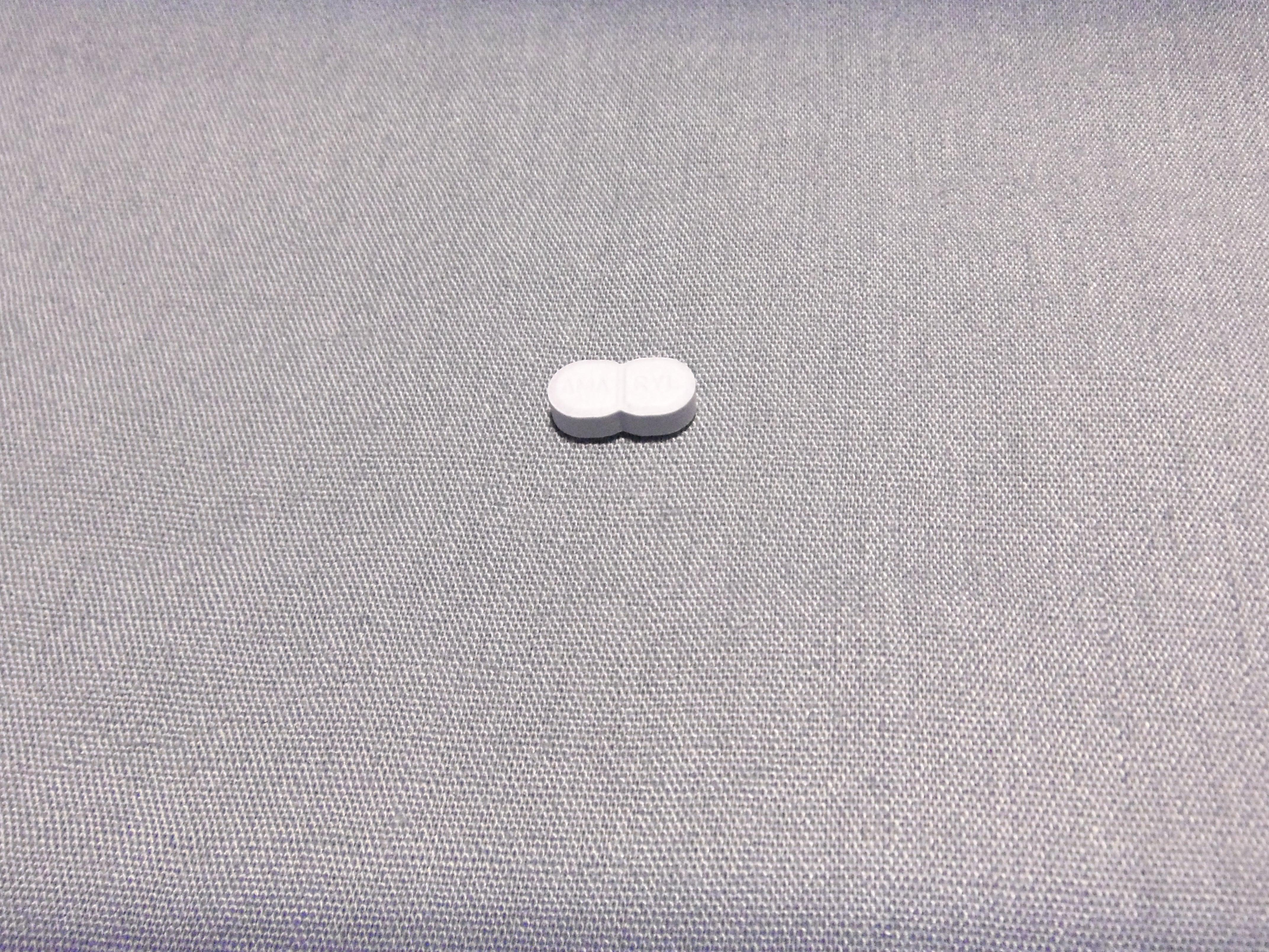Pill: (524, 335, 720, 456)
